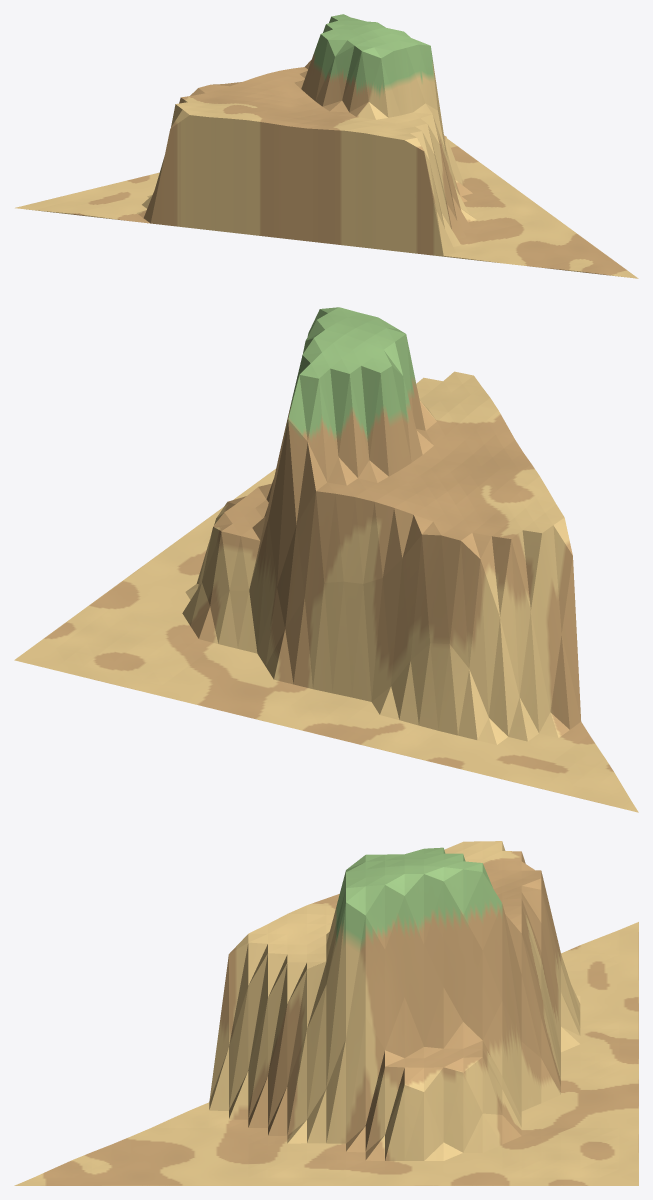
File: Desert_Mountains_09_SE.obj
The picture shows the model from 3 angles, top to bottom: view 1: azimuth 30°, elevation 25°; view 2: azimuth 150°, elevation 25°; view 3: azimuth 270°, elevation 25°; orthographic projection. The views are drawn at different scales.
Bounding box in the file's own units: 10 × 4.19 × 10.
1 material, 1 textured.
